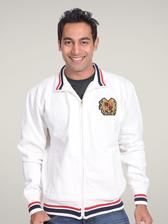clothoes: (19, 63, 155, 210)
